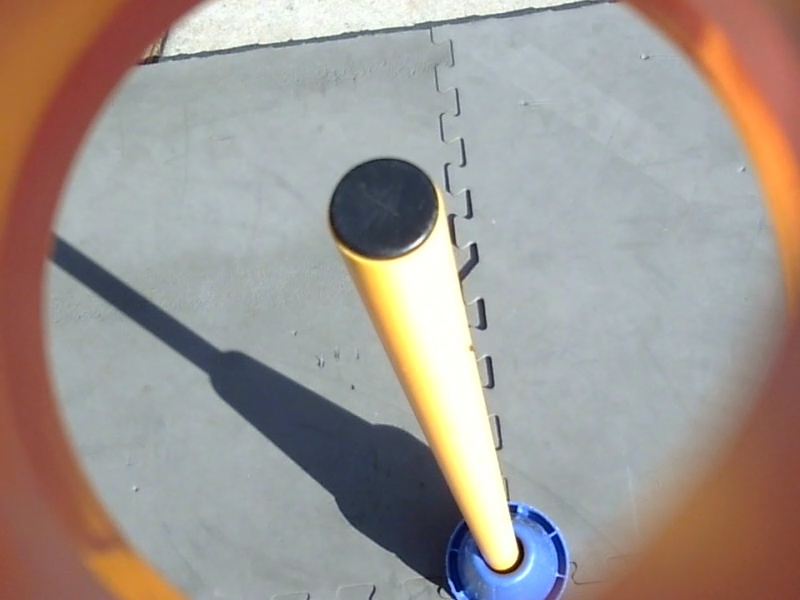tip: (322, 152, 446, 268)
